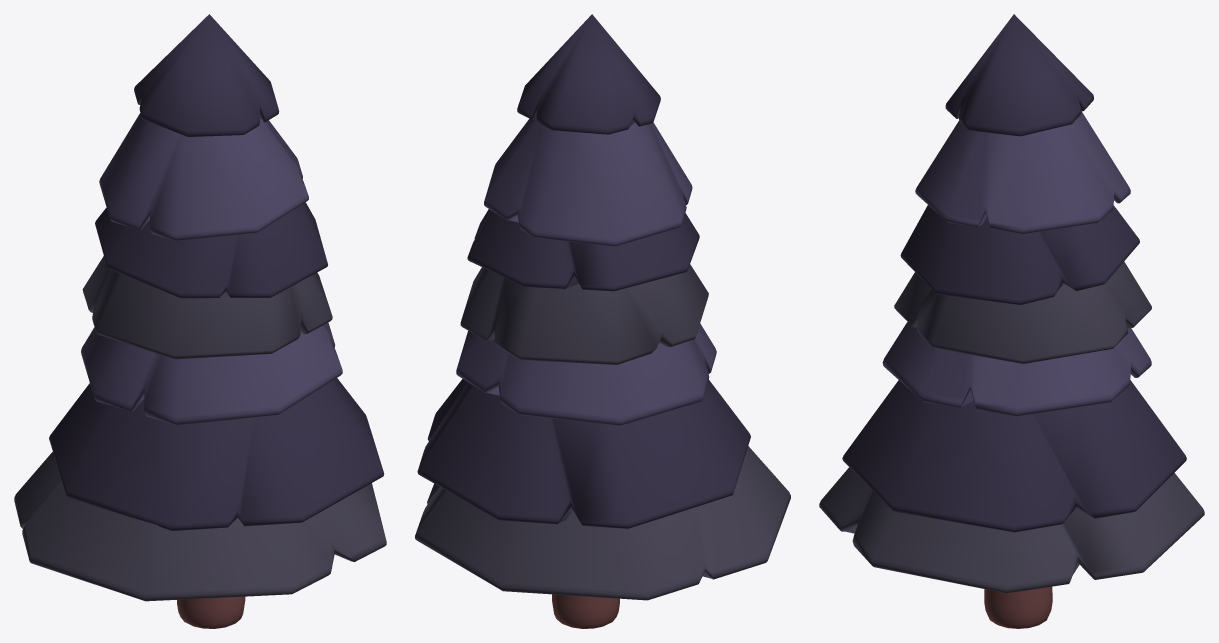
Rendered from tree with leaves.fbx.
The picture shows the model from 3 angles, left to right: view 1: azimuth 30°, elevation 25°; view 2: azimuth 150°, elevation 25°; view 3: azimuth 270°, elevation 25°; orthographic projection.
Parts seen in each view (by area): view 1: Cylinder.002, Cylinder.001, Cylinder.007, Cylinder.003, Cylinder.005, Cylinder.006, Cylinder.004, Cylinder; view 2: Cylinder.002, Cylinder.001, Cylinder.007, Cylinder.005, Cylinder.003, Cylinder.006, Cylinder.004, Cylinder; view 3: Cylinder.002, Cylinder.001, Cylinder.007, Cylinder.006, Cylinder.005, Cylinder.003, Cylinder.004, Cylinder.
Part boxes in pixels (<box>): Cylinder.002: <box>49,378,384,530</box>; Cylinder.001: <box>14,451,386,601</box>; Cylinder.007: <box>99,113,308,240</box>; Cylinder.003: <box>81,323,342,425</box>; Cylinder.005: <box>82,256,332,359</box>; Cylinder.006: <box>95,202,327,298</box>; Cylinder.004: <box>134,14,279,136</box>; Cylinder: <box>177,596,245,628</box>; Cylinder.002: <box>417,379,750,528</box>; Cylinder.001: <box>415,446,790,600</box>; Cylinder.007: <box>484,118,692,246</box>; Cylinder.005: <box>460,264,708,364</box>; Cylinder.003: <box>456,323,716,425</box>; Cylinder.006: <box>467,209,699,291</box>; Cylinder.004: <box>517,14,660,134</box>; Cylinder: <box>552,594,619,628</box>; Cylinder.002: <box>842,380,1186,532</box>; Cylinder.001: <box>819,467,1204,593</box>; Cylinder.007: <box>915,111,1130,233</box>; Cylinder.006: <box>900,205,1139,304</box>; Cylinder.005: <box>894,261,1151,363</box>; Cylinder.003: <box>882,321,1151,416</box>; Cylinder.004: <box>945,14,1093,136</box>; Cylinder: <box>984,586,1052,628</box>.
Bounding box in the file's own units: 705 × 1213 × 705.
